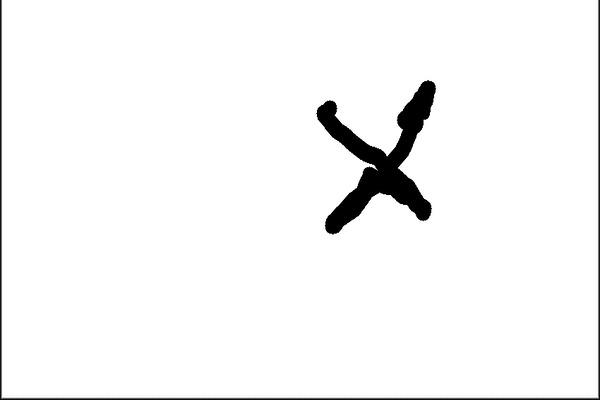X: (293, 73, 449, 243)
